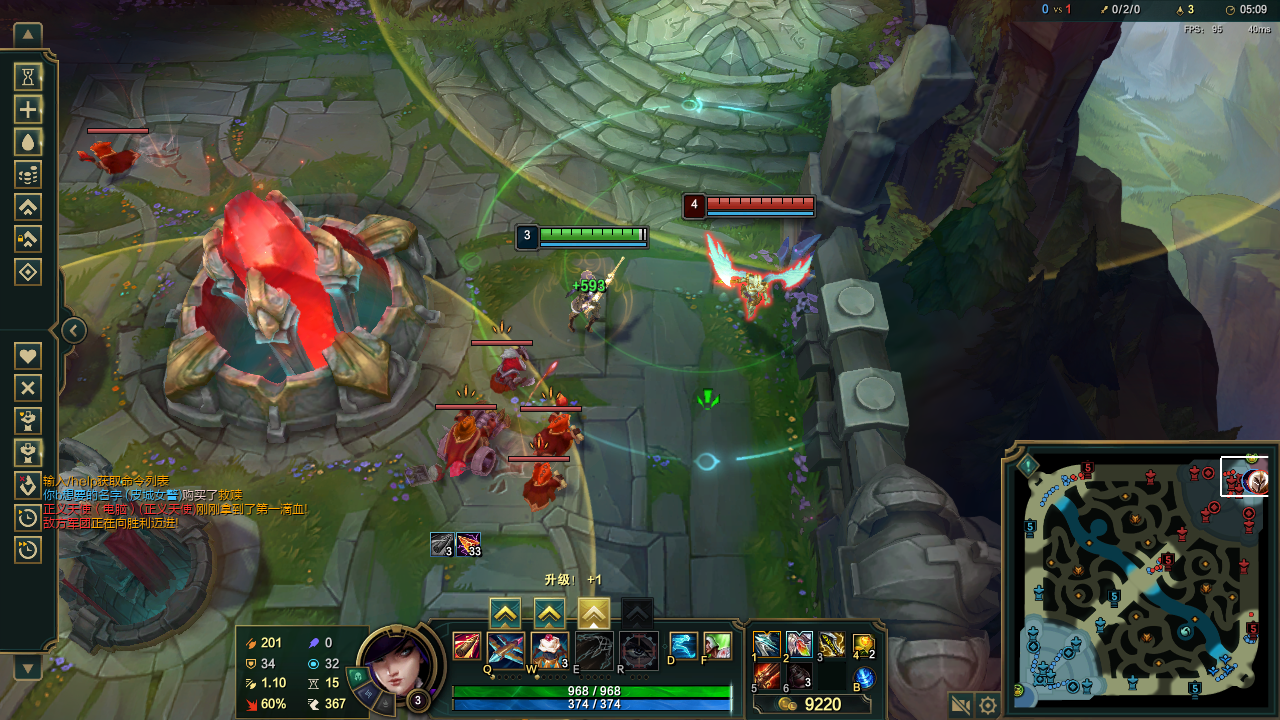DFDSJ: (165, 182, 404, 422)
DFYX: (709, 196, 815, 210)
